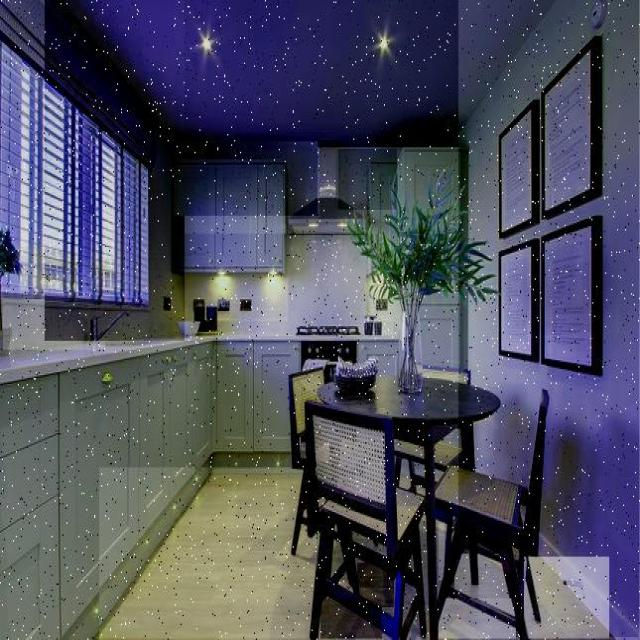Wall: (459, 0, 640, 637), (66, 0, 551, 147), (45, 0, 185, 341), (100, 468, 317, 639), (184, 235, 368, 335), (174, 142, 318, 216), (525, 559, 609, 639), (4, 300, 105, 350), (339, 150, 397, 210), (455, 554, 509, 610), (439, 600, 516, 639), (321, 600, 382, 639), (358, 563, 394, 607), (439, 524, 445, 580)
